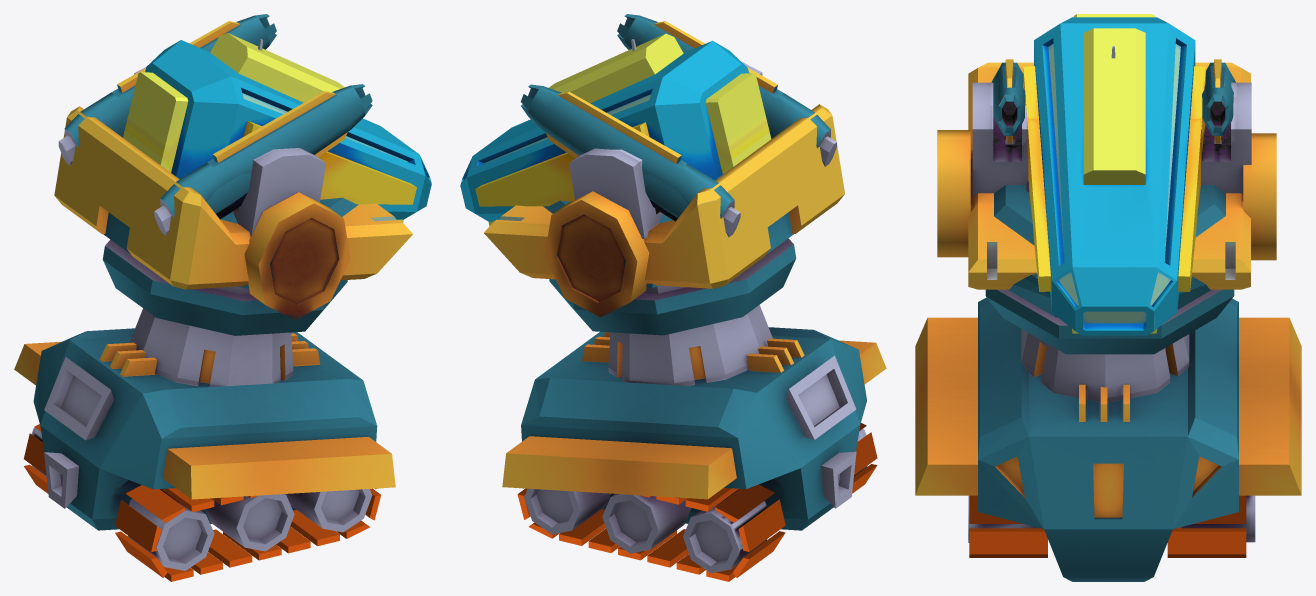
The model's file is Player_moving_upgrade9.obj.
3 renders of one model, left to right at view 1: azimuth 30°, elevation 25°; view 2: azimuth 150°, elevation 25°; view 3: azimuth 270°, elevation 25°, orthographic. The views are drawn at different scales.
Parts seen in each view (by area): view 1: Object015, Object014, Box009, Box017, Box016; view 2: Object015, Object014, Box009, Box016, Box017; view 3: Object015, Object014, Box017, Box016, Box009.
Boxes of the visible parts, x1,y1,x2,y2 form: Object015: (14, 33, 431, 530); Object014: (58, 14, 372, 235); Box009: (31, 427, 372, 570); Box017: (115, 485, 380, 581); Box016: (24, 424, 48, 493); Object015: (460, 33, 886, 530); Object014: (520, 14, 836, 237); Box009: (524, 429, 867, 573); Box016: (517, 484, 785, 581); Box017: (852, 423, 877, 493); Object015: (915, 14, 1301, 581); Object014: (991, 59, 1235, 143); Box017: (969, 495, 1047, 557); Box016: (1167, 495, 1246, 557); Box009: (968, 495, 1255, 542).
Bounding box in the file's own units: 70.38 × 88.9 × 59.78.
5 materials, 3 textured.
